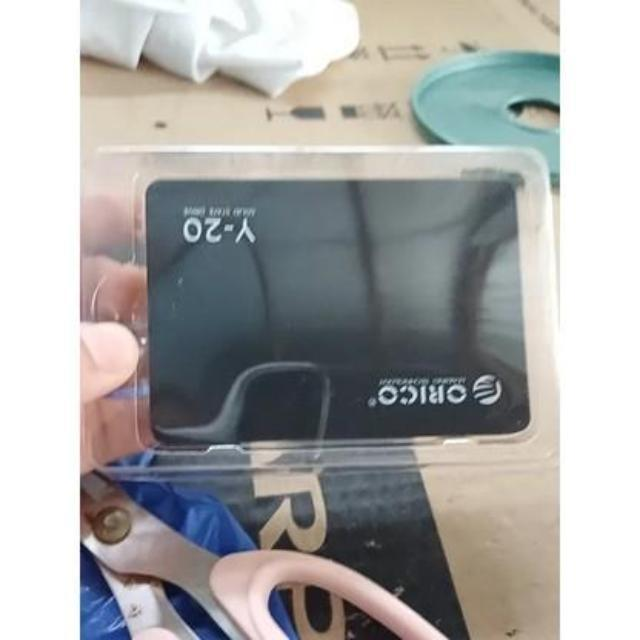DISK: (139, 170, 533, 447)
